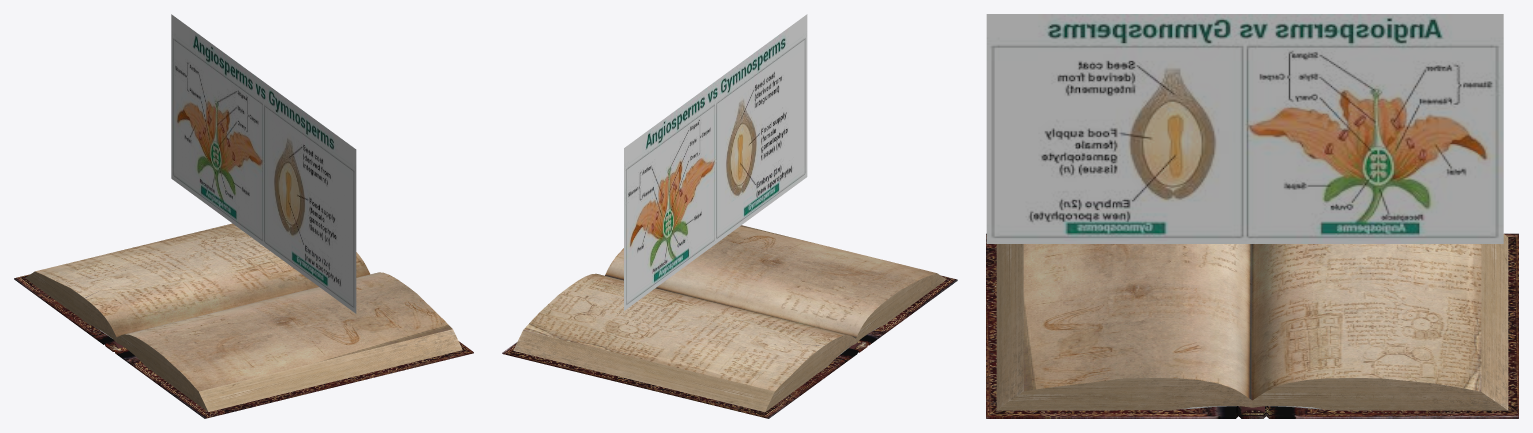
The model's file is sperms.glb.
3 views of the same model, side by side, from view 1: azimuth 30°, elevation 25°; view 2: azimuth 150°, elevation 25°; view 3: azimuth 270°, elevation 25° (orthographic). The views are drawn at different scales.
Parts seen in each view (by area): view 1: polySurface23, inner_info, polySurface21; view 2: polySurface23, inner_info, polySurface21; view 3: inner_info, polySurface23, polySurface21.
Boxes of the visible parts, x1,y1,x2,y2 form: polySurface23: [25, 223, 462, 411]; inner_info: [171, 14, 356, 313]; polySurface21: [14, 274, 473, 418]; polySurface23: [513, 225, 946, 411]; inner_info: [624, 14, 807, 310]; polySurface21: [502, 275, 957, 418]; inner_info: [986, 14, 1503, 243]; polySurface23: [996, 234, 1508, 410]; polySurface21: [986, 233, 1518, 418].
Size of the model in its own units: 3.01 by 2.48 by 3.69.
6 materials, 4 textured.
